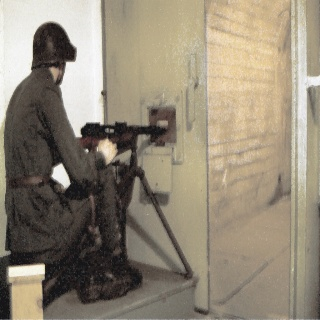rifle: (79, 118, 201, 279)
